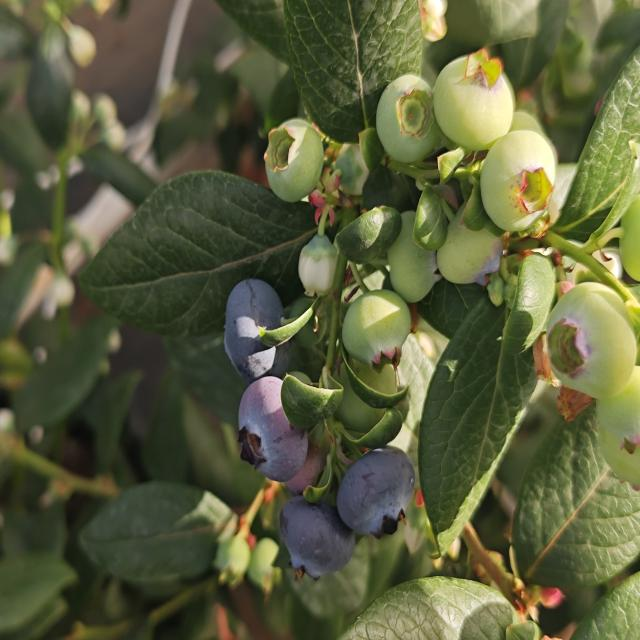ripe: (226, 378, 313, 483), (216, 278, 290, 387), (279, 493, 357, 583), (332, 460, 418, 540)
